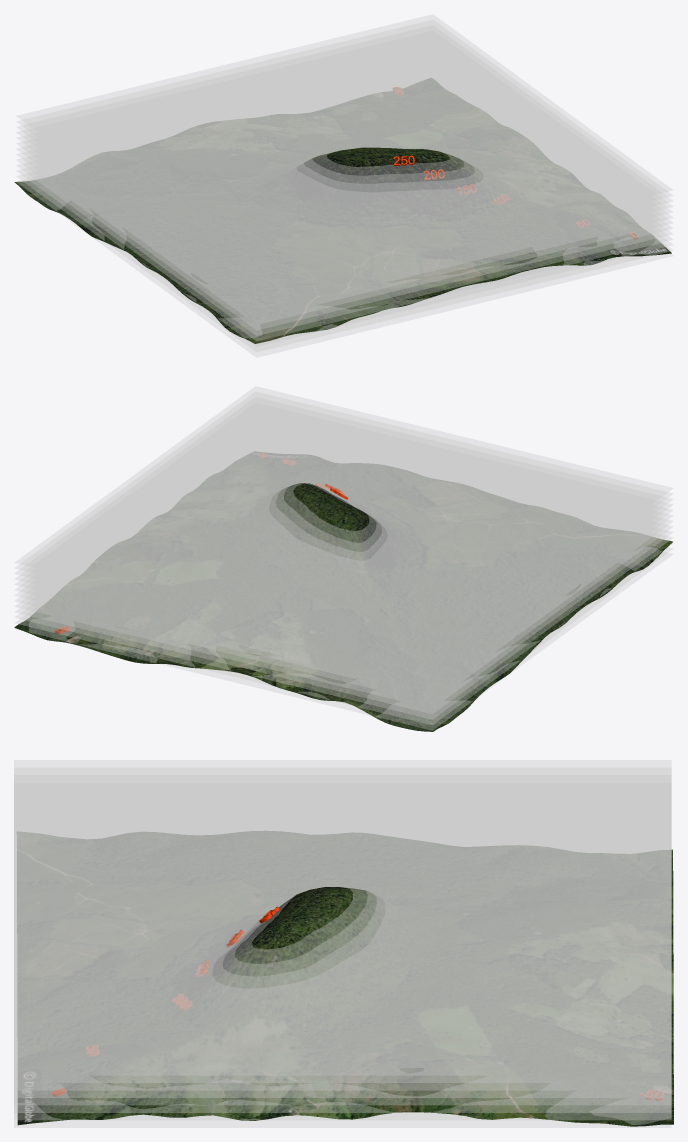
The model's file is PrudentopolisNc1.glb.
3 renders of one model, top to bottom at view 1: azimuth 30°, elevation 25°; view 2: azimuth 150°, elevation 25°; view 3: azimuth 270°, elevation 25°, orthographic. The views are drawn at different scales.
Visible parts, largest first — view 1: object 1, Location Terrain; view 2: object 1, Location Terrain; view 3: object 1, Location Terrain.
Part boxes in pixels (x1,y1,x2,y2): object 1: (16, 14, 673, 357); Location Terrain: (14, 78, 671, 343); object 1: (14, 386, 673, 730); Location Terrain: (14, 452, 672, 731); object 1: (14, 760, 671, 1127); Location Terrain: (17, 831, 673, 1126).
Size of the model in its own units: 2000 by 354 by 2000.
3 materials, 1 textured.
